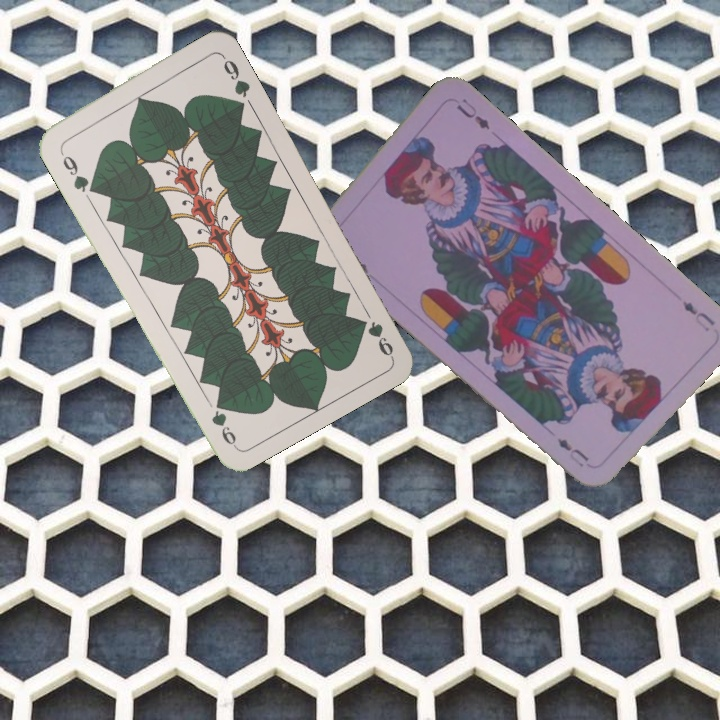EU: (678, 296, 717, 335)
G9: (55, 144, 96, 195), (354, 314, 396, 359)
